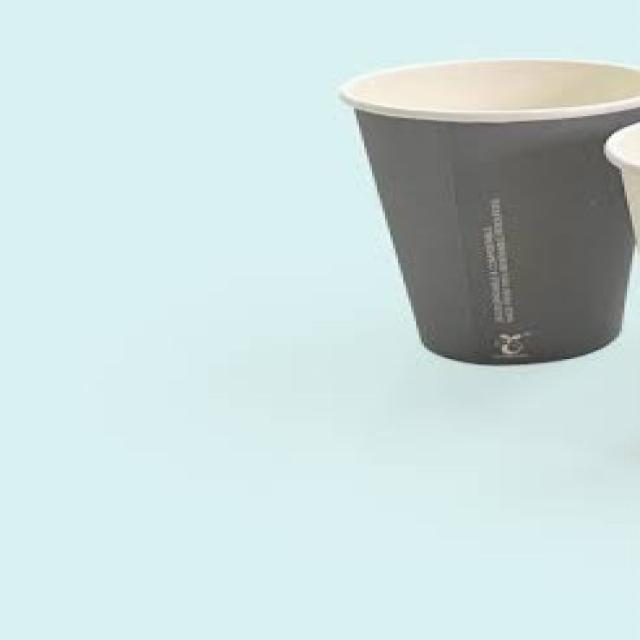paper cup: (342, 0, 640, 379)
